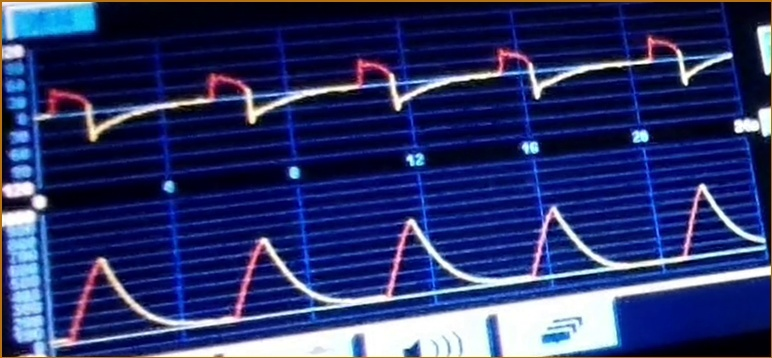Normal Flow: (40, 34, 733, 142)
Normal Volume: (50, 182, 766, 330)
